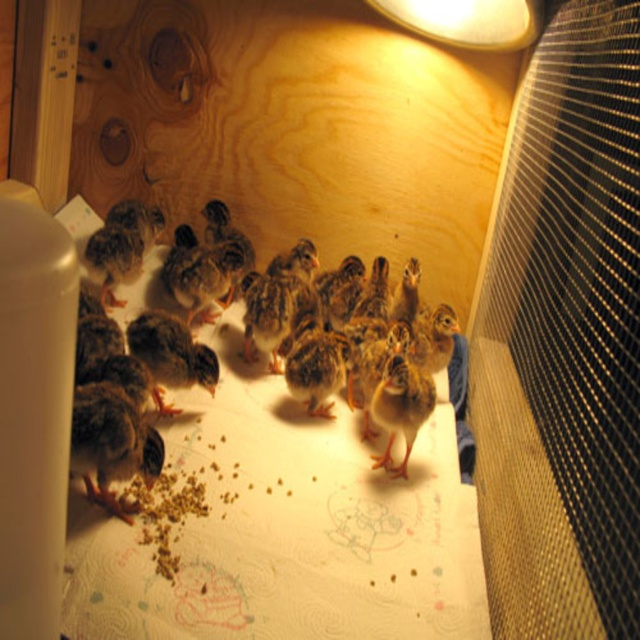Chicken: (364, 343, 443, 480)
